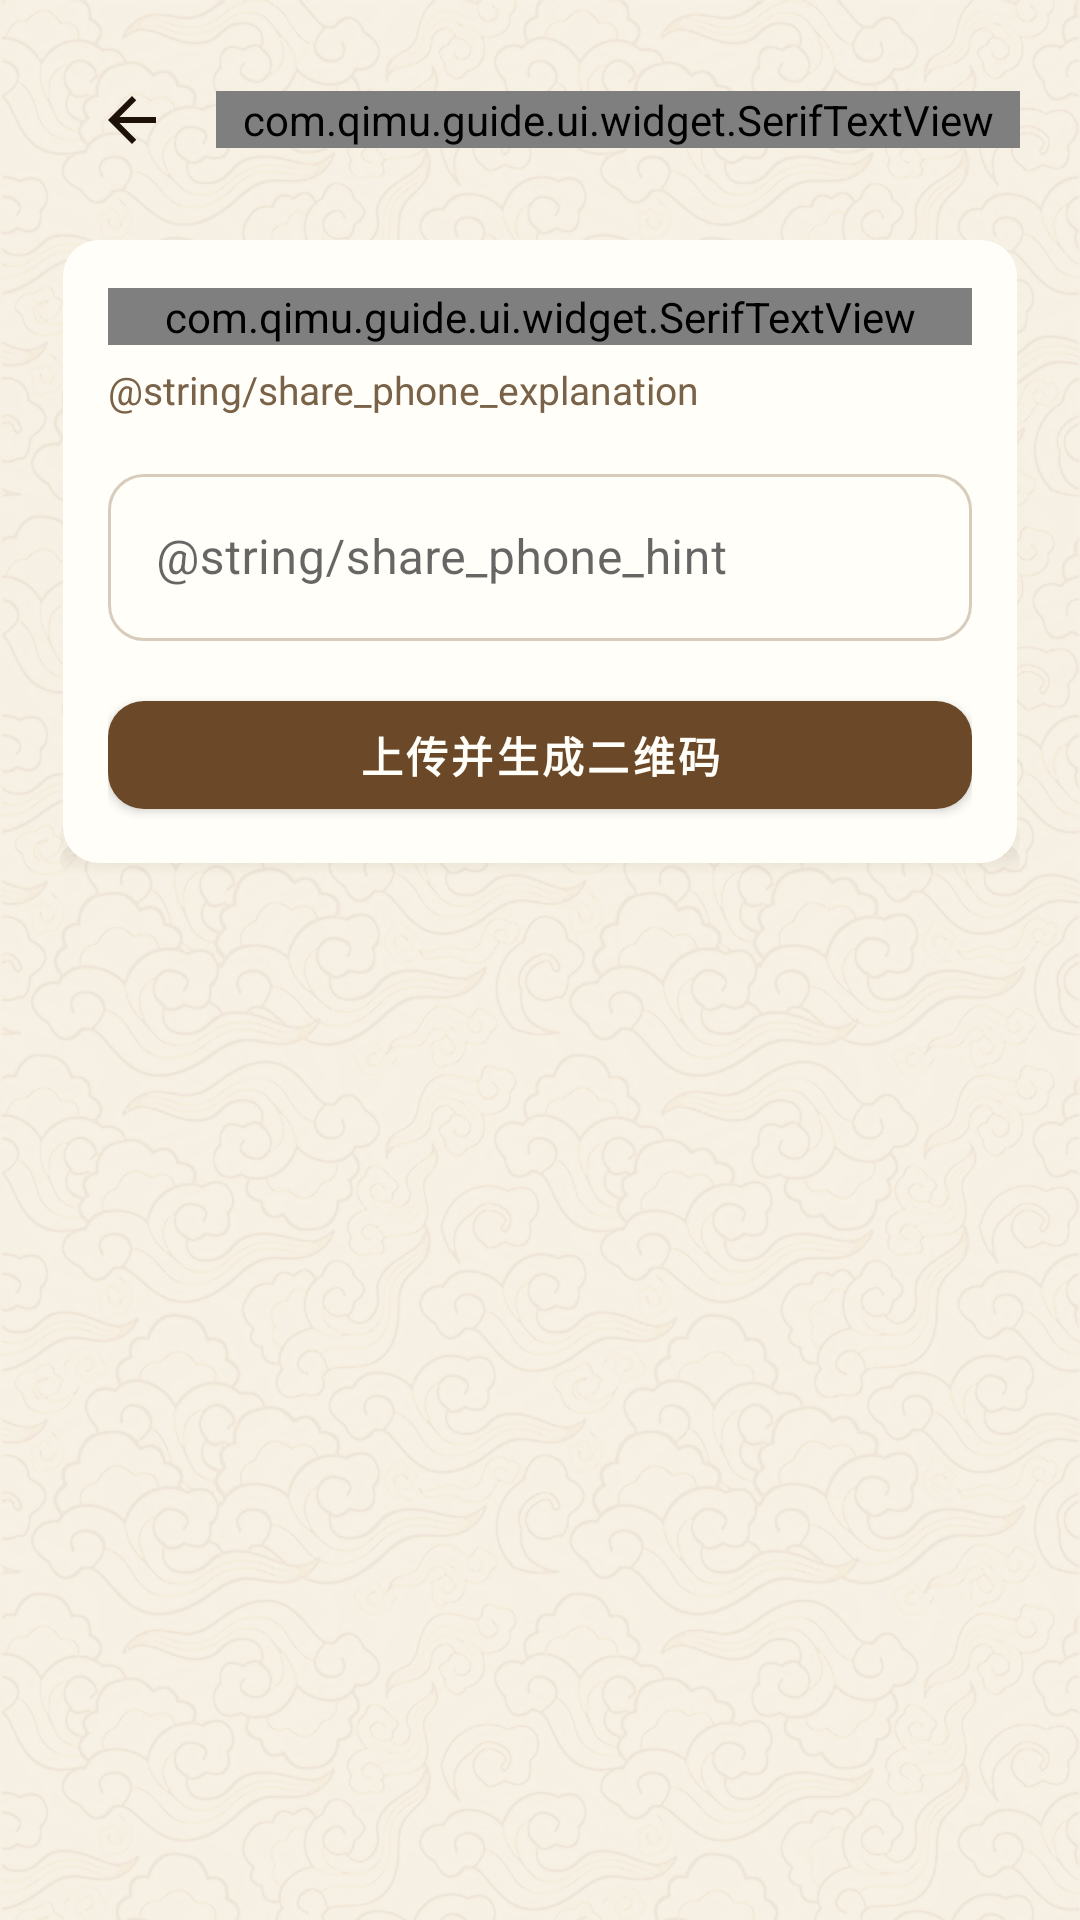

Icons on this 1080px×1920px Android screen, each with the point to tap as (x=x, y=y):
返回分享设置: (x=132, y=120)
